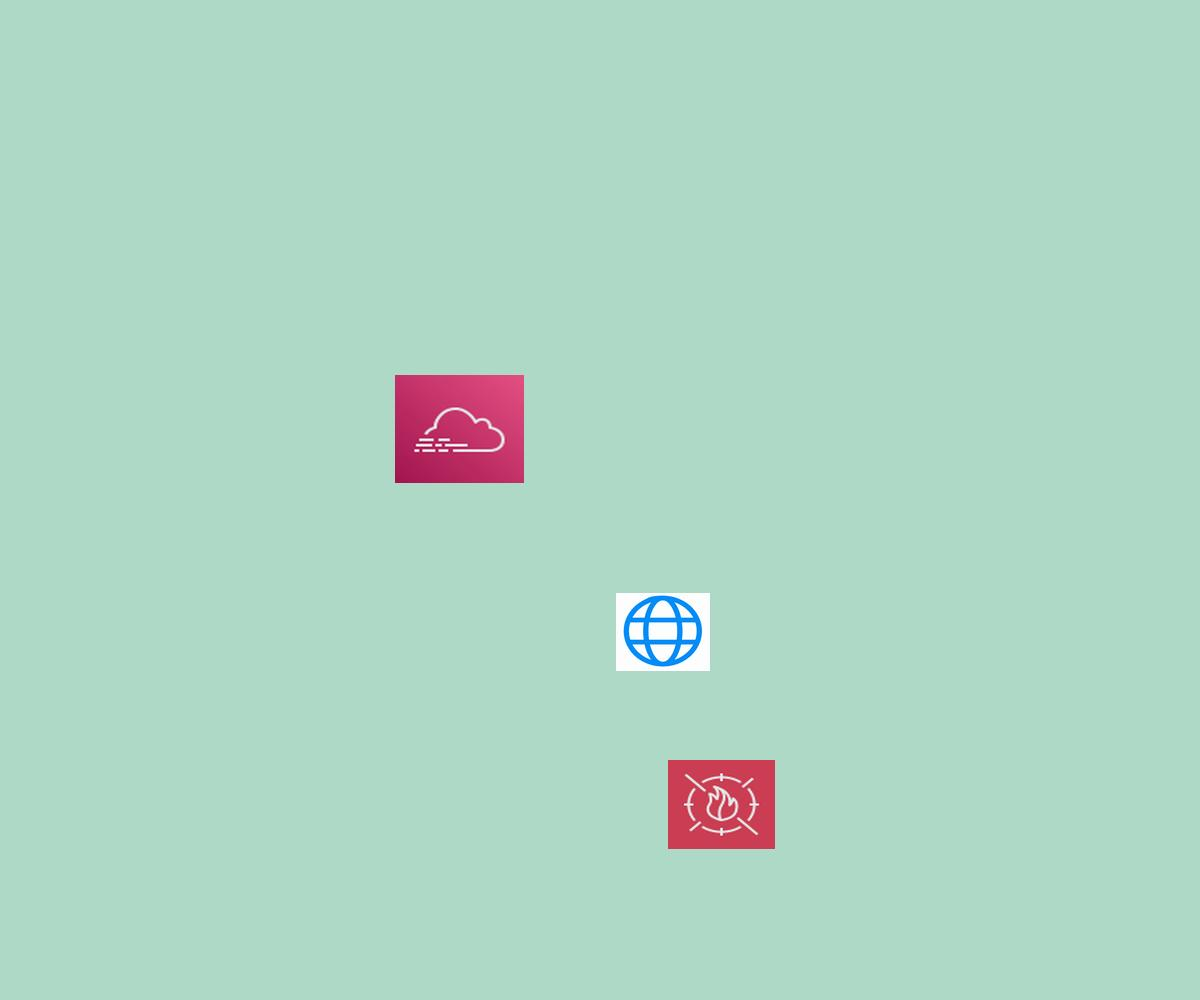AWS-CloudTrail: (395, 375, 524, 483)
AWS-WAF: (668, 760, 775, 849)
Azure_http: (616, 593, 710, 671)
